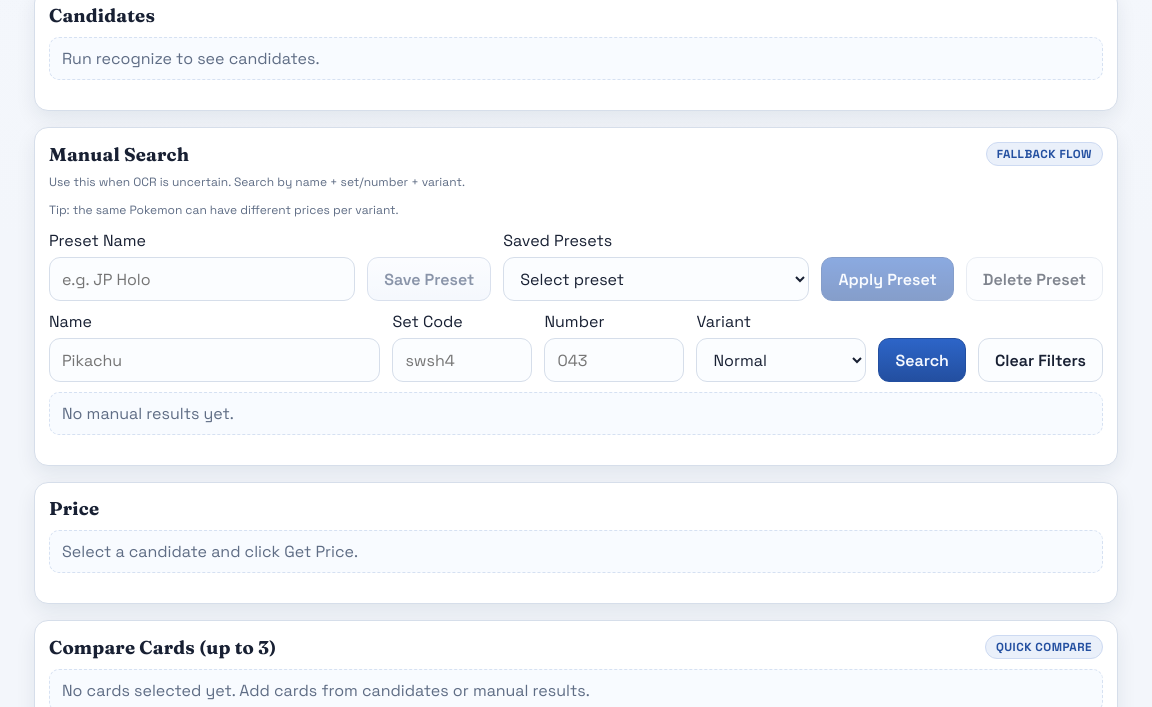
Test case: HomePage › clears manual filters and shows feedback toast
(page scrolled)
Type "Mew" into the field labelled "Name" at (215, 360), box [49,338,380,382]
Type "sv2" into the field labelled "Set Code" at (462, 360), box [392,338,532,382]
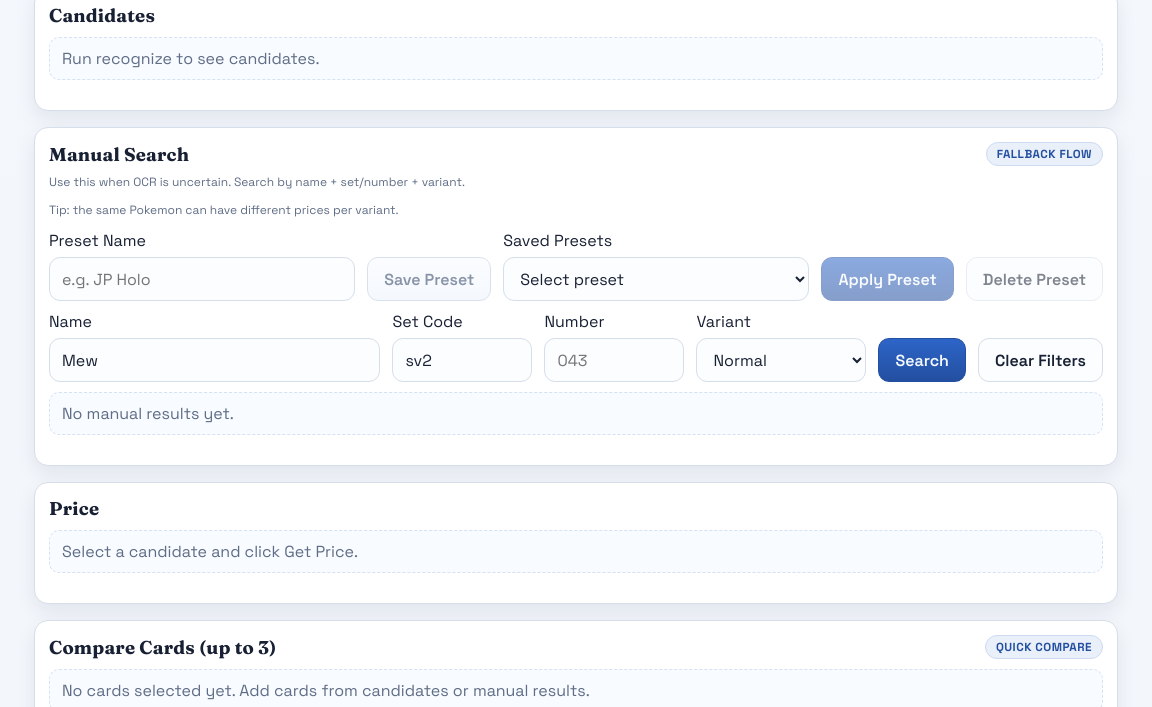
Type "125" into the field labelled "Number" at (614, 360), box [544,338,684,382]
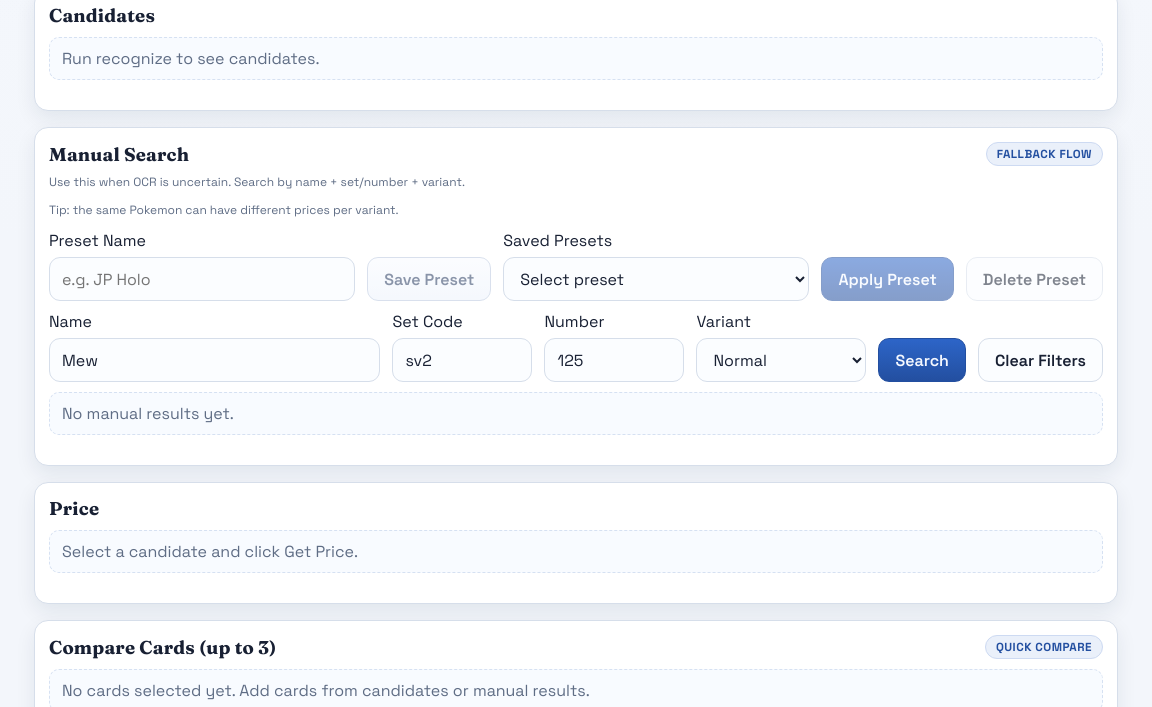
Select "Holo" in the dropdown labelled "Variant" at (782, 360), box [696,338,866,382]
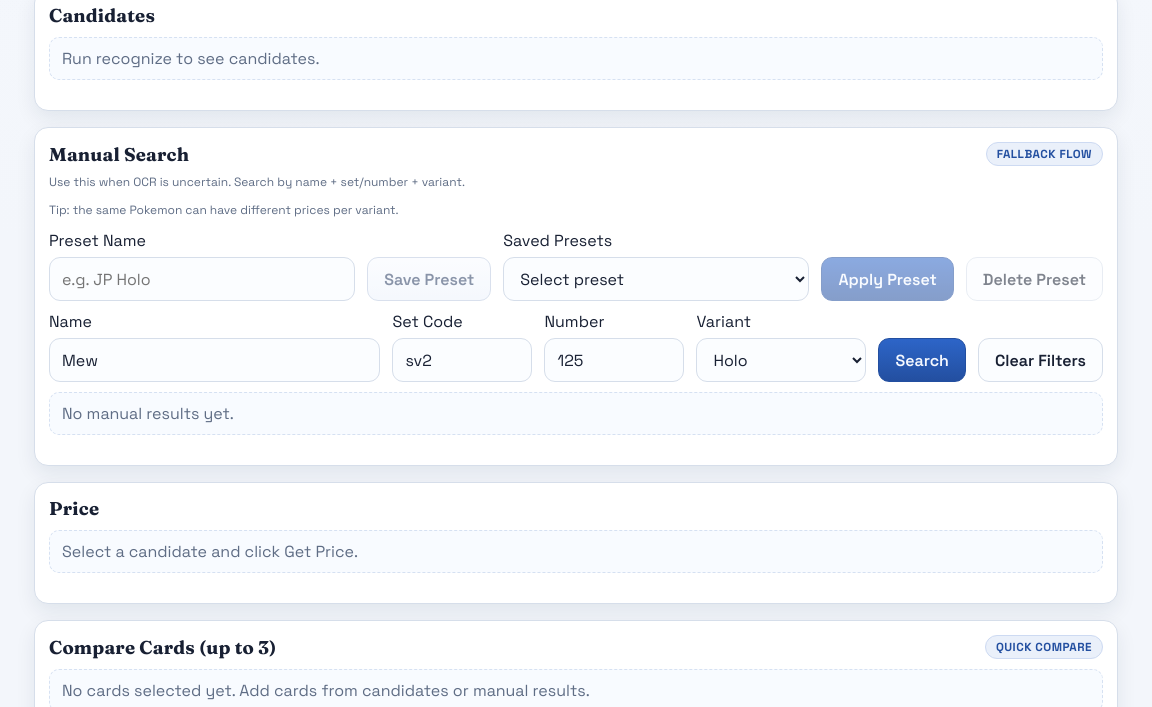
Type "My Preset" into the field labelled "Preset Name" at (202, 279), box [49,257,355,301]
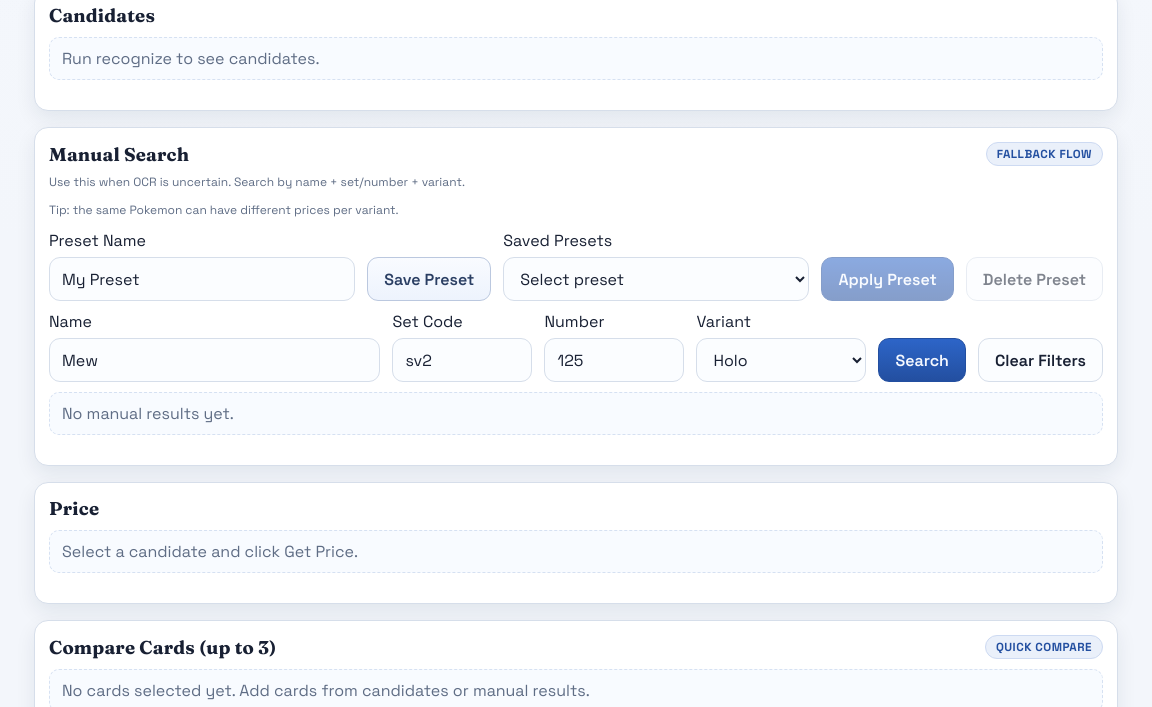
Select "KR Promo (KR/KO)" in the dropdown labelled "Saved Presets" at (656, 279), box [503,257,810,301]
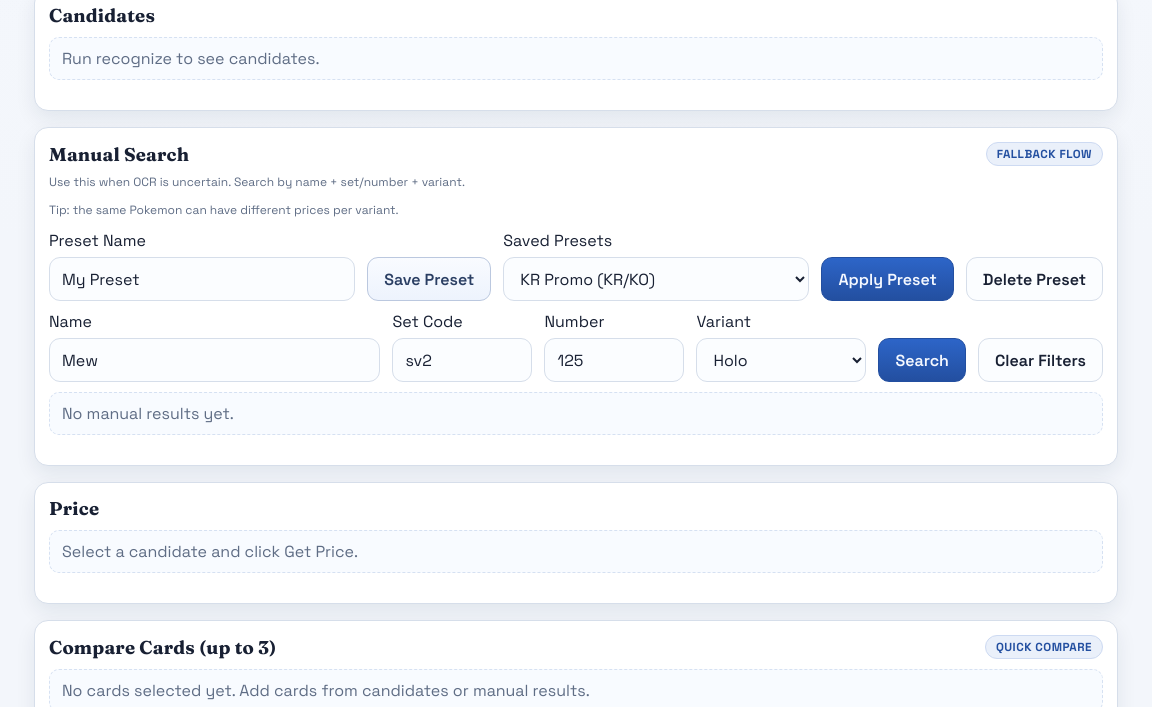
Click the button "Clear Filters" at (1040, 360), box [978,338,1103,382]
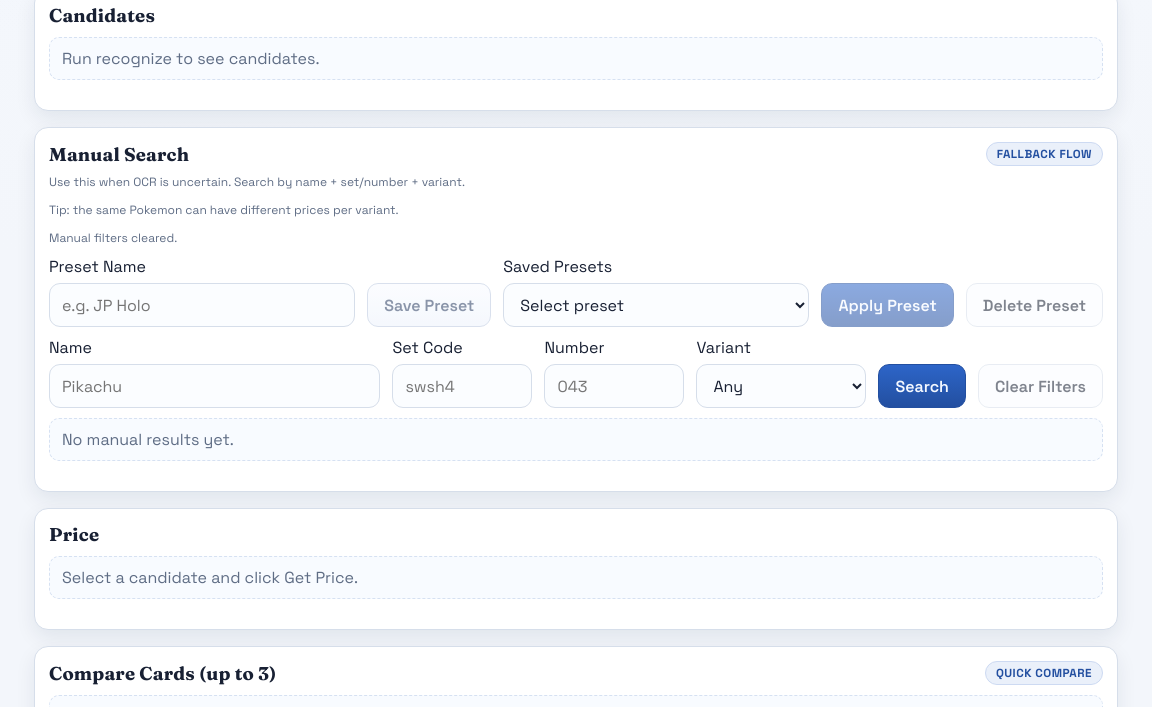
Check: the field labelled "Name" is empty, box [49,364,380,408]
Check: the field labelled "Set Code" is empty, box [392,364,532,408]
Check: the field labelled "Number" is empty, box [544,364,684,408]
